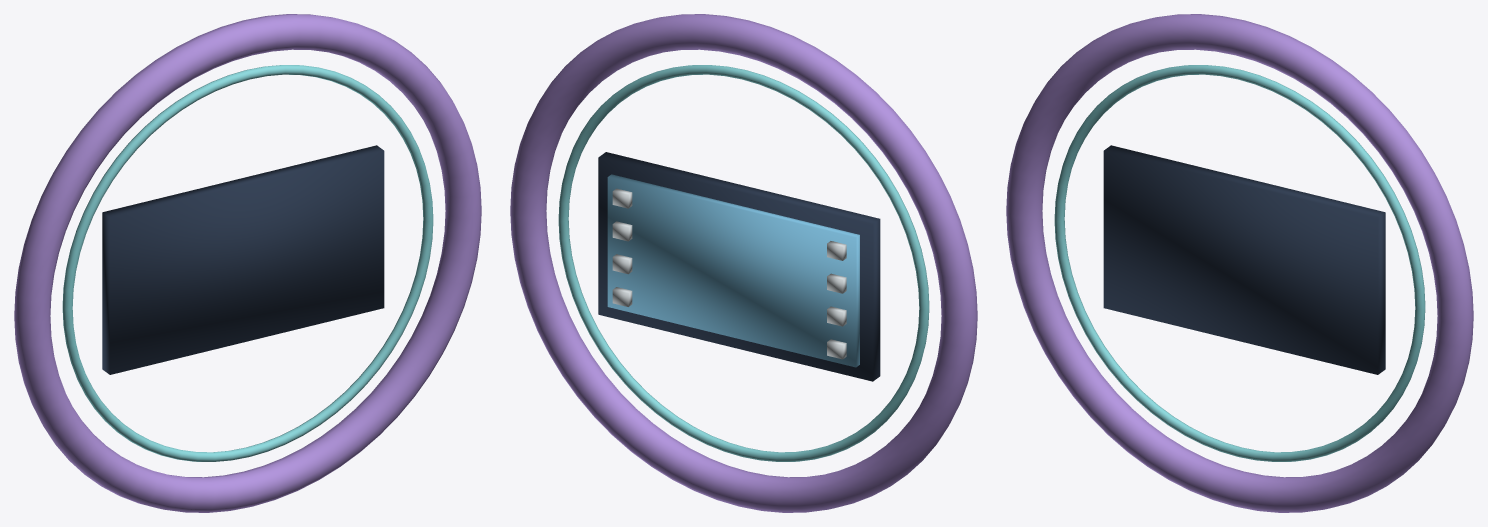
File: replay-film-portal-v1.gltf
3 views of the same model, side by side, from view 1: azimuth 30°, elevation 25°; view 2: azimuth 150°, elevation 25°; view 3: azimuth 330°, elevation 25° (orthographic).
Visible parts, largest first — view 1: replay-film-portal-v1-00, replay-film-portal-v1-02, replay-film-portal-v1-01; view 2: replay-film-portal-v1-00, replay-film-portal-v1-03, replay-film-portal-v1-02, replay-film-portal-v1-01; view 3: replay-film-portal-v1-00, replay-film-portal-v1-02, replay-film-portal-v1-01.
Part boxes in pixels (left/top/right/bottom): replay-film-portal-v1-00: left=14, top=14, right=481, bottom=512; replay-film-portal-v1-02: left=102, top=145, right=384, bottom=374; replay-film-portal-v1-01: left=62, top=65, right=433, bottom=461; replay-film-portal-v1-00: left=510, top=14, right=977, bottom=512; replay-film-portal-v1-03: left=607, top=174, right=859, bottom=367; replay-film-portal-v1-02: left=598, top=152, right=880, bottom=381; replay-film-portal-v1-01: left=558, top=65, right=929, bottom=461; replay-film-portal-v1-00: left=1006, top=14, right=1473, bottom=512; replay-film-portal-v1-02: left=1103, top=145, right=1385, bottom=374; replay-film-portal-v1-01: left=1054, top=65, right=1425, bottom=461.
Bounding box in the file's own units: 3.54 × 3.54 × 0.335.
